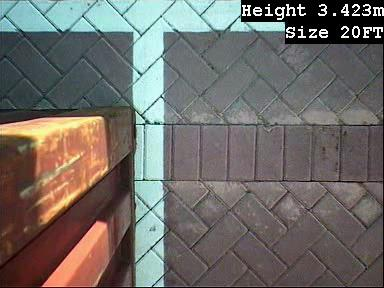groundmarker_2: (197, 213, 232, 271), (193, 37, 228, 95)
